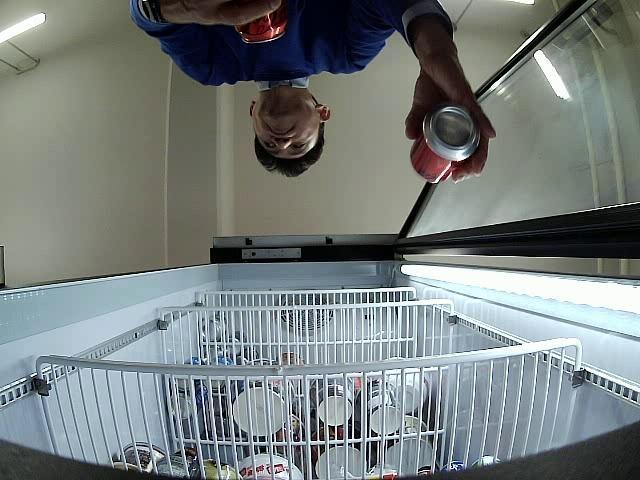11_cocaColaZero: (409, 103, 482, 184), (235, 0, 287, 43)
